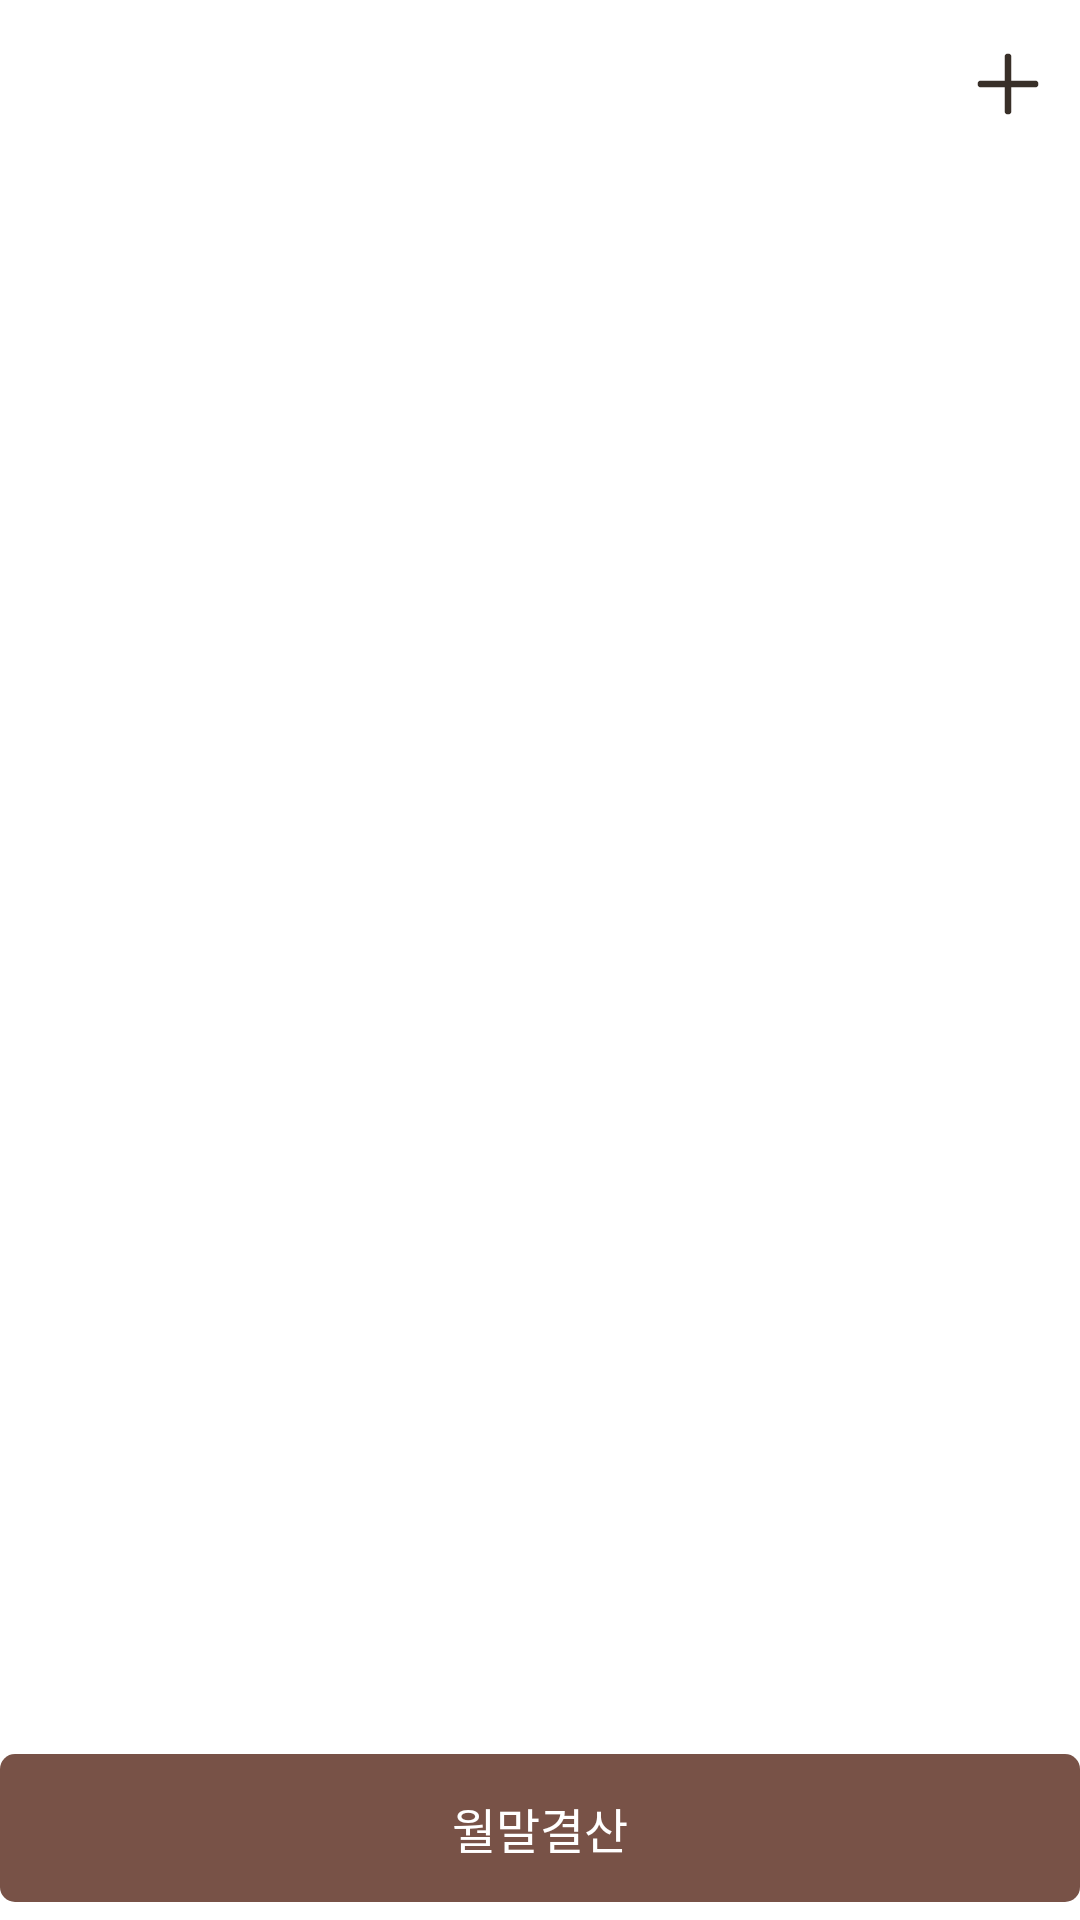

Named icons in this screenshot (1080px x 1920px) and their bounding boxes, (x1, y1, x2, y2):
add: (977, 53, 1039, 115)
